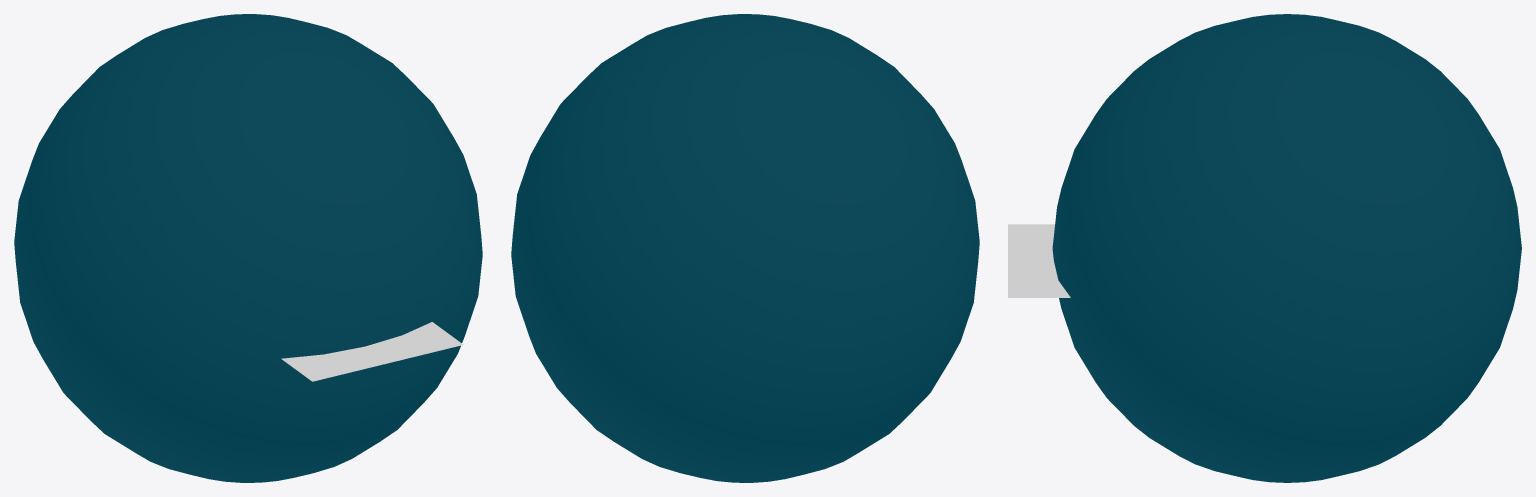
File: Brain_003.gltf
3 renders of one model, left to right at view 1: azimuth 30°, elevation 25°; view 2: azimuth 150°, elevation 25°; view 3: azimuth 270°, elevation 25°, orthographic.
Visible parts, largest first — view 1: BrainDomo, Plane; view 2: BrainDomo; view 3: BrainDomo, Plane.
Boxes of the visible parts, <box> form: BrainDomo: <box>14,14,482,482</box>; Plane: <box>281,322,463,381</box>; BrainDomo: <box>511,14,979,482</box>; BrainDomo: <box>1052,14,1521,482</box>; Plane: <box>1008,224,1070,297</box>.
Size of the model in its own units: 167 by 167 by 183.
